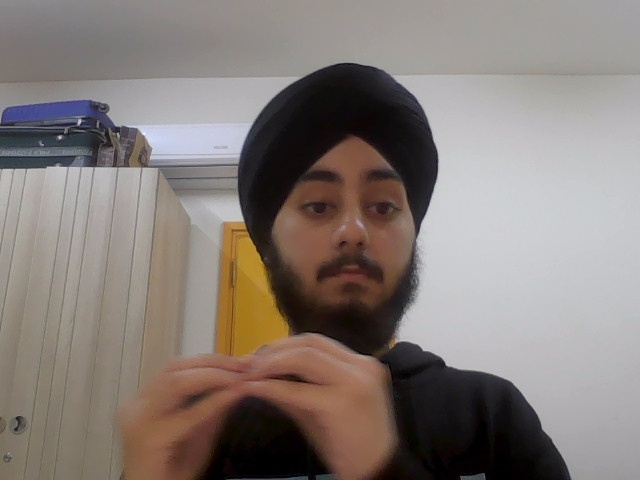More: (116, 329, 400, 480)
